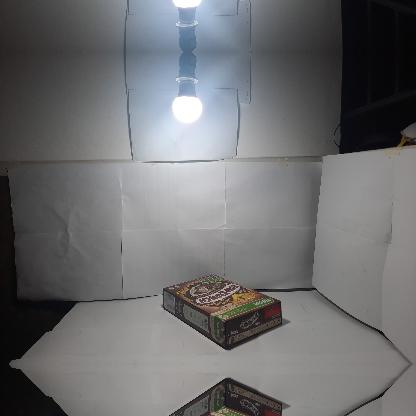Koko-Krunch: (162, 274, 282, 348), (162, 380, 282, 415)
